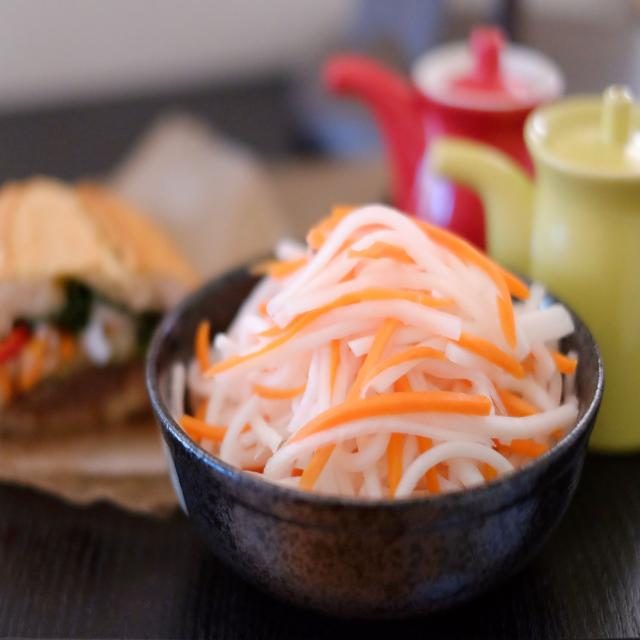do chua: (175, 205, 579, 499)
